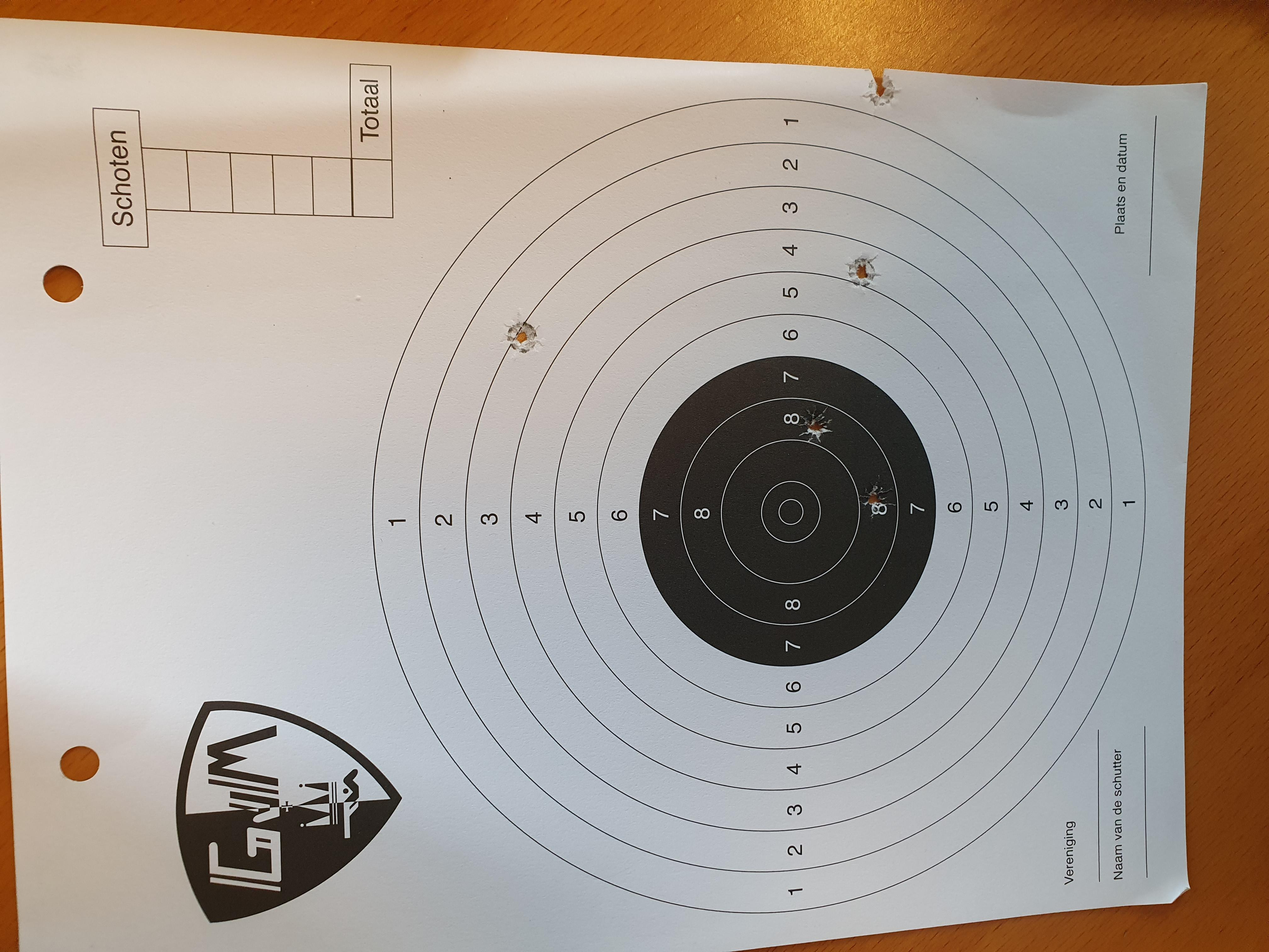hole: (791, 373, 852, 408), (881, 626, 935, 663), (576, 638, 637, 668), (1121, 648, 1175, 678), (677, 600, 733, 627)
